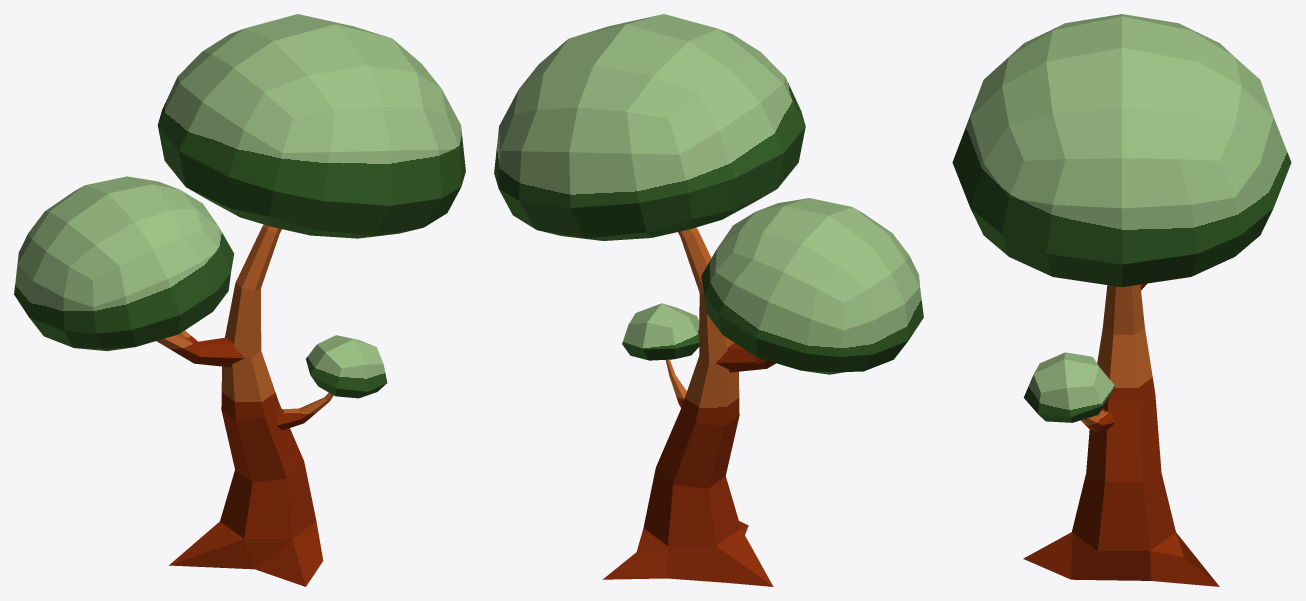
The model's file is BonsaiTree.glb.
The picture shows the model from 3 angles, left to right: view 1: azimuth 30°, elevation 25°; view 2: azimuth 150°, elevation 25°; view 3: azimuth 270°, elevation 25°; orthographic projection. The views are drawn at different scales.
Visible parts, largest first — view 1: Tree.005; view 2: Tree.005; view 3: Tree.005.
Part boxes in pixels (left/top/right/bottom): Tree.005: left=14, top=14, right=465, bottom=586; Tree.005: left=494, top=14, right=923, bottom=586; Tree.005: left=952, top=14, right=1291, bottom=586.
Size of the model in its own units: 2.67 by 3.24 by 1.8.
Materials: 1 (1 with a texture image).
